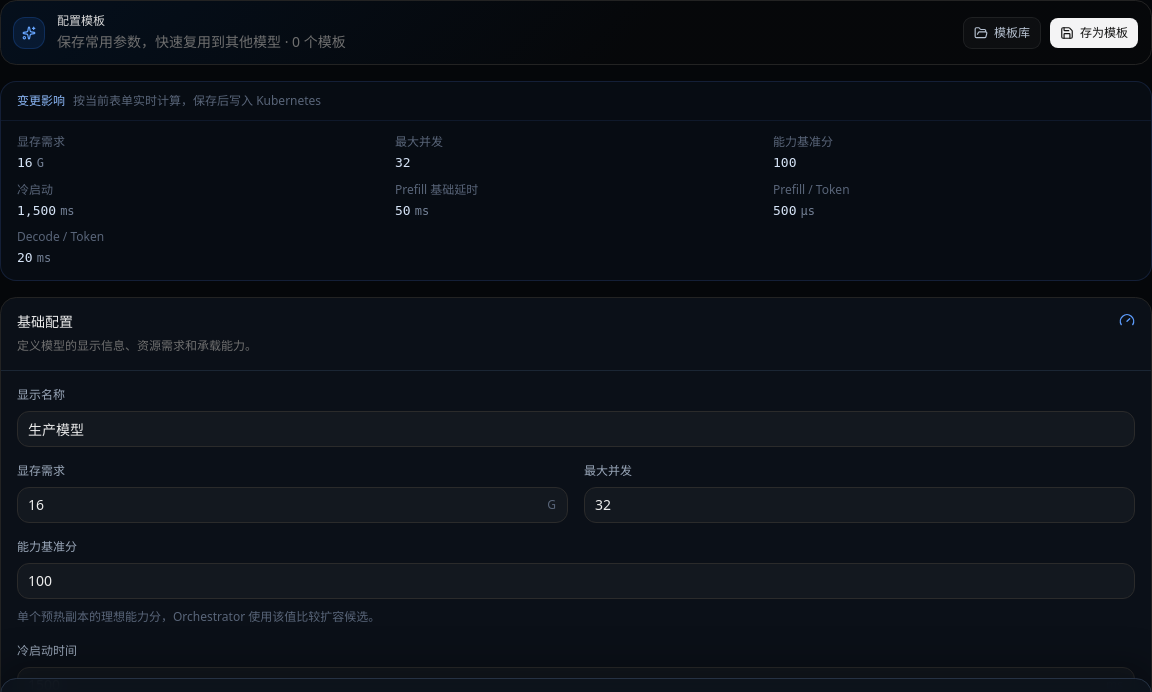
Scenario: ModelForm › 保存模板后模板库出现新模板
This screenshot has width=1152, height=692.
Click the button "存为模板" at (1094, 32), box [1049,16,1139,48]
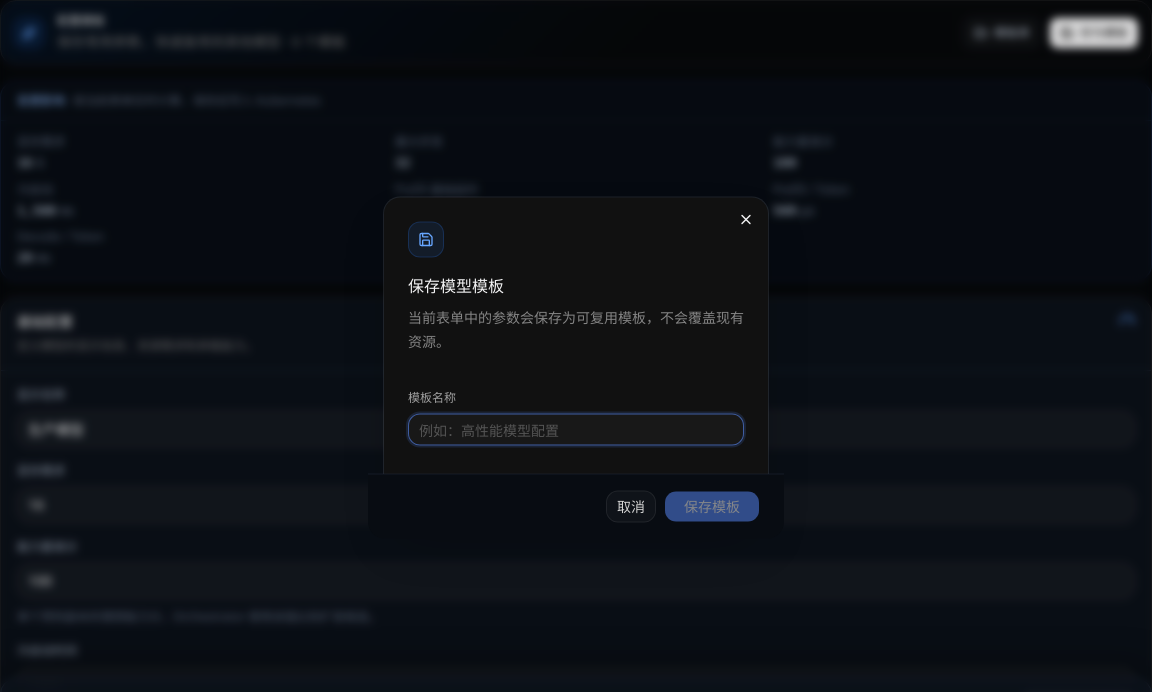
Type "生产模板" into the field labelled "模板名称" at (576, 430), box [408,414,744,446]
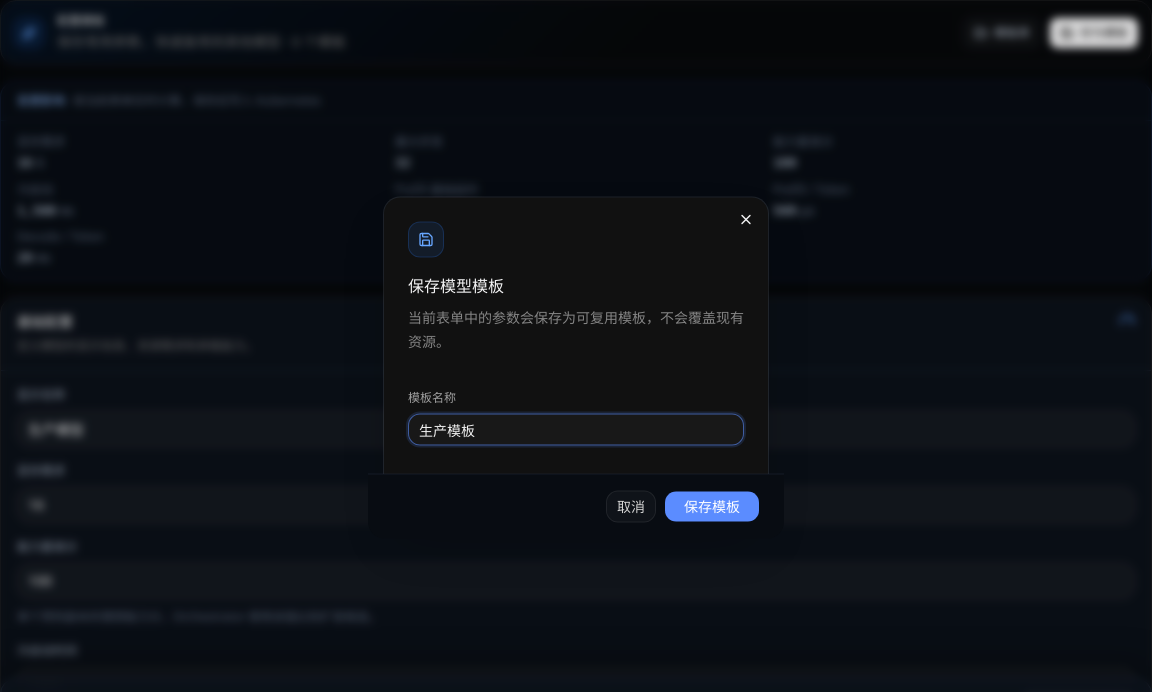
Click the button "保存模板" at (712, 506), box [664,490,760,522]
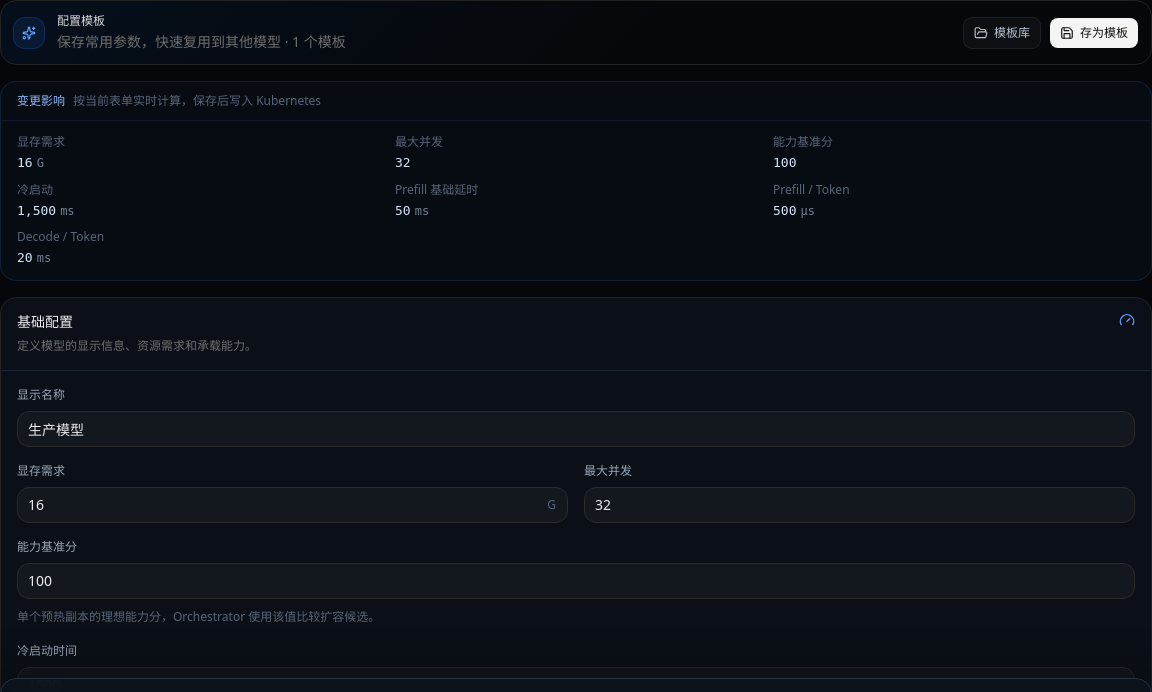
Click the button "模板库" at (1002, 32), box [963,16,1041,48]
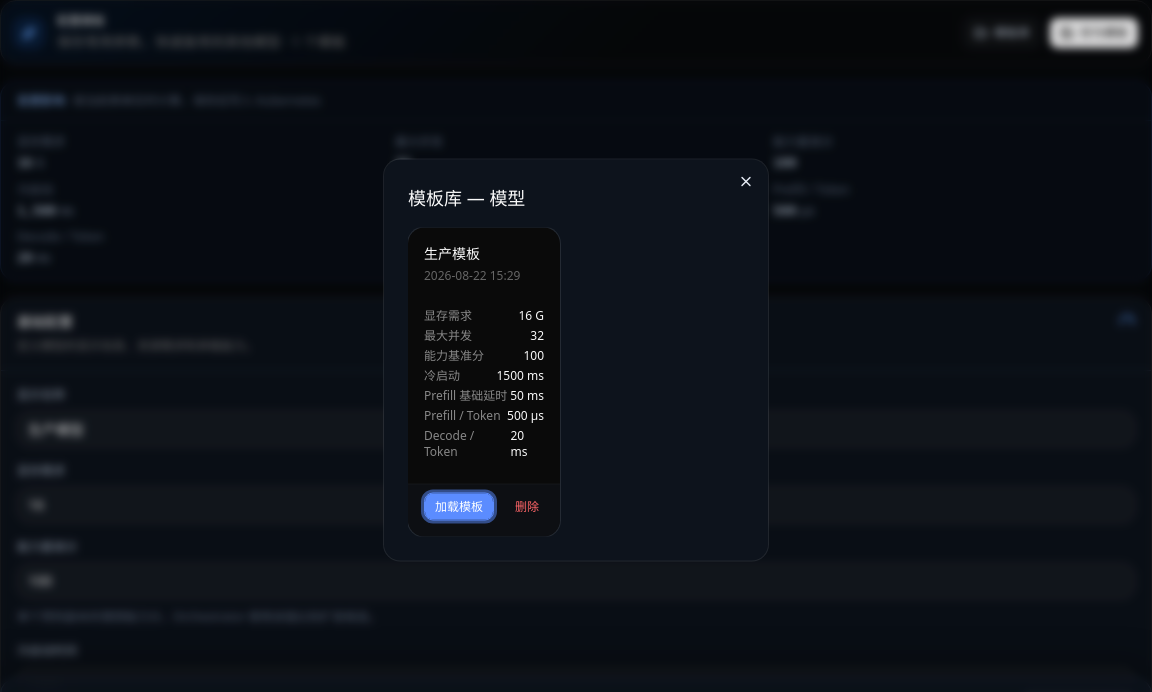
Check: the text "生产模板" is shown, box [424,244,480,264]
